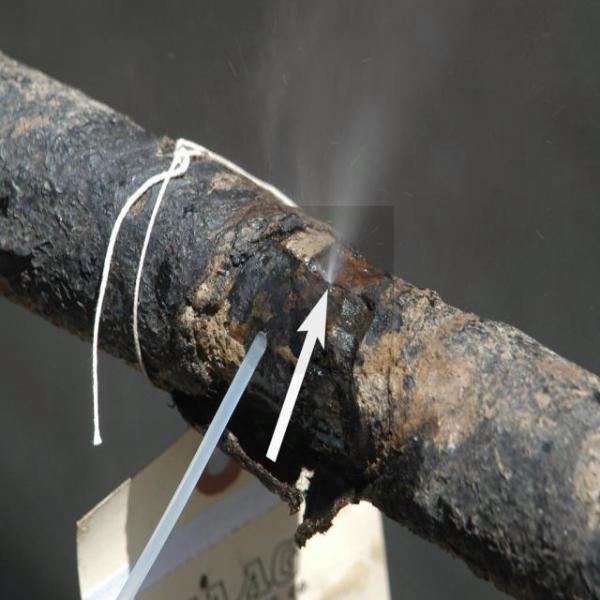leak: (290, 206, 394, 374)
